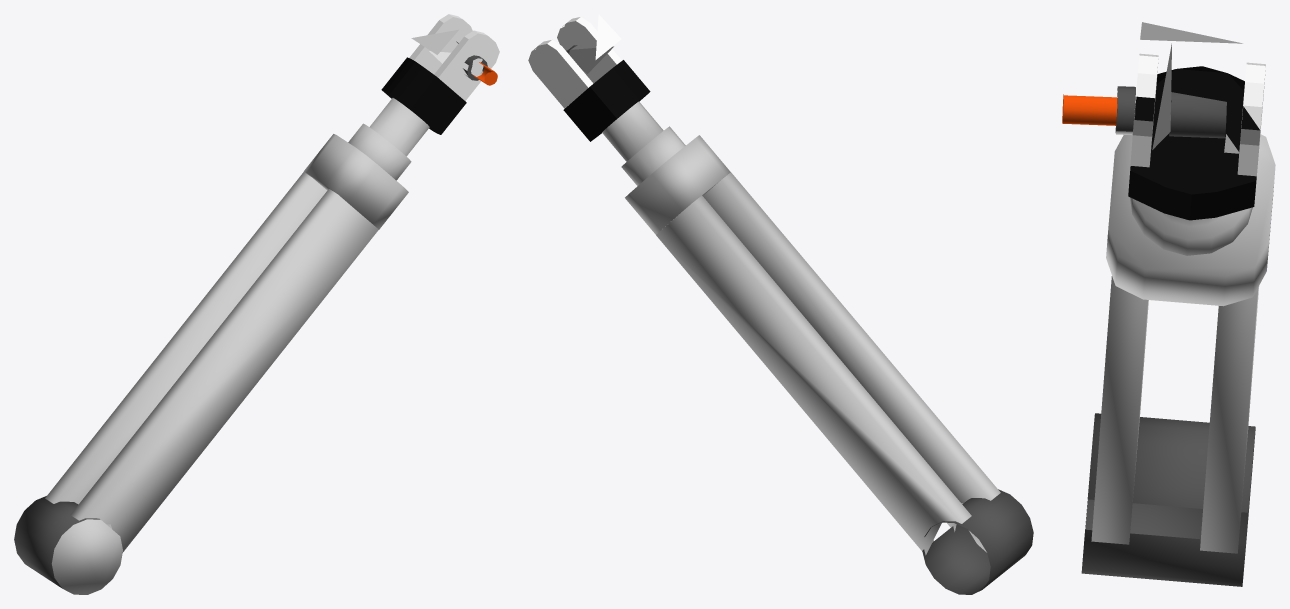
The model's file is Brazo1.2.obj.
3 views of the same model, side by side, from view 1: azimuth 30°, elevation 25°; view 2: azimuth 150°, elevation 25°; view 3: azimuth 270°, elevation 25° (orthographic). The views are drawn at different scales.
Parts seen in each view (by area): view 1: Brazo1.2; view 2: Brazo1.2; view 3: Brazo1.2.
Part boxes in pixels (box(x1,y1,x2,y2)): Brazo1.2: box(14, 14, 499, 594); Brazo1.2: box(528, 14, 1033, 594); Brazo1.2: box(1062, 22, 1275, 586).
Size of the model in its own units: 3.96 by 3.82 by 0.7927.
